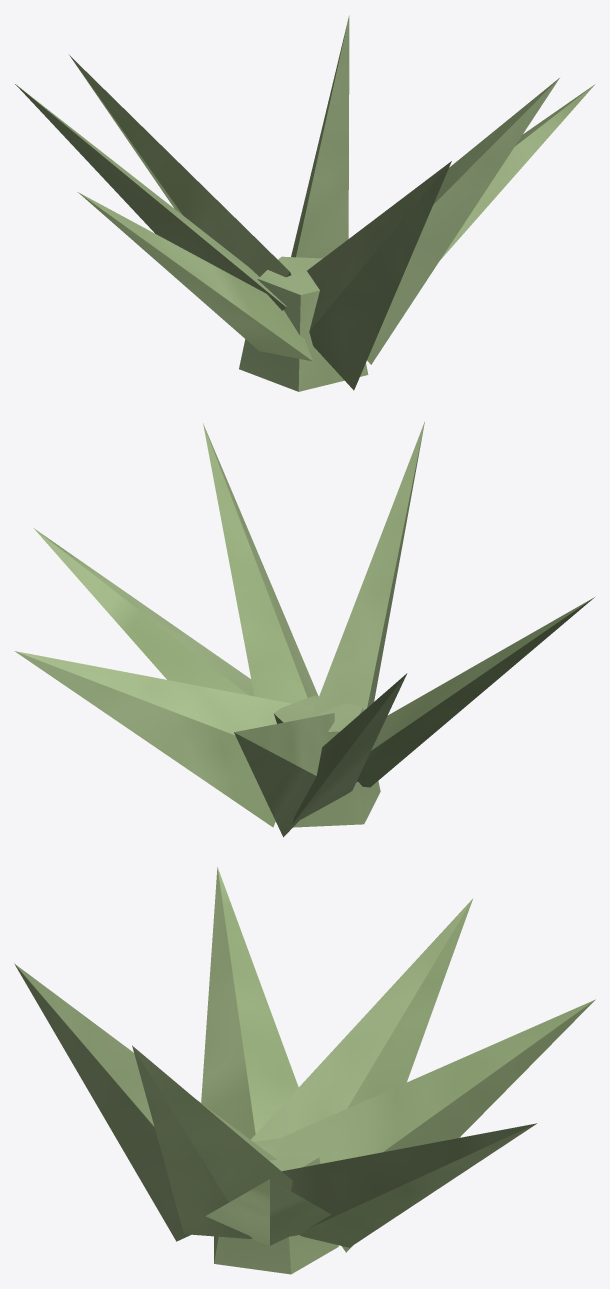
File: sm_crop_herb_2.glb
3 views of the same model, one above another, from view 1: azimuth 30°, elevation 25°; view 2: azimuth 150°, elevation 25°; view 3: azimuth 270°, elevation 25° (orthographic). The views are drawn at different scales.
Visible parts, largest first — view 1: sm_crop_herb_2; view 2: sm_crop_herb_2; view 3: sm_crop_herb_2.
Boxes of the visible parts, x1,y1,x2,y2 form: sm_crop_herb_2: (15, 15, 595, 391); sm_crop_herb_2: (14, 421, 594, 837); sm_crop_herb_2: (14, 867, 595, 1274).
Size of the model in its own units: 0.1717 by 0.0895 by 0.1575.
Materials: 1 (1 with a texture image).
